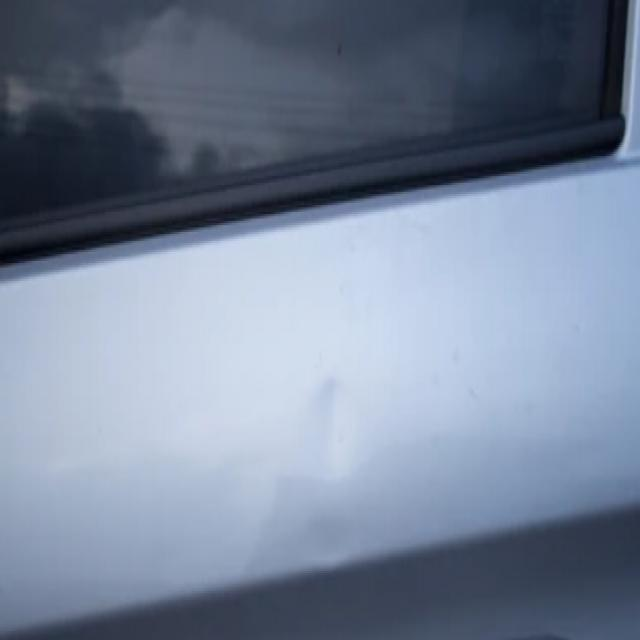dents: (296, 355, 364, 502)
